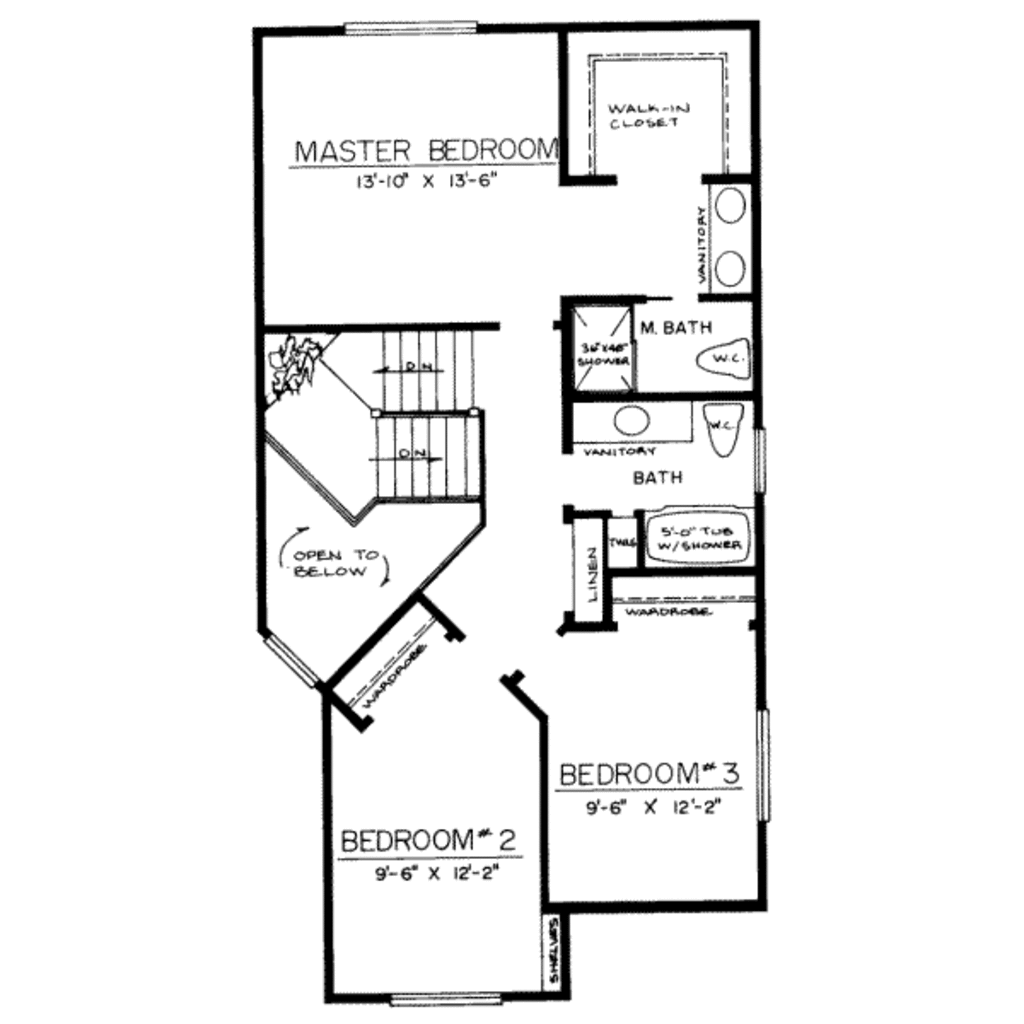large_sink: (698, 395, 757, 468), (690, 330, 750, 384)
small_sink: (698, 171, 753, 295), (577, 398, 687, 449)
stairs: (322, 332, 520, 508)
tub: (639, 503, 760, 571)
window: (731, 703, 793, 833), (338, 11, 499, 49), (263, 632, 331, 693), (382, 985, 514, 1016)
